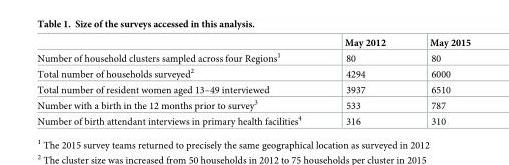table: (36, 37, 470, 126)
table column: (36, 37, 322, 126), (322, 37, 407, 126), (407, 37, 470, 126)
table column header: (36, 37, 470, 49)
table row: (36, 49, 470, 65), (36, 65, 470, 81), (36, 96, 470, 112), (36, 81, 470, 96), (36, 112, 470, 126), (36, 37, 470, 49)
